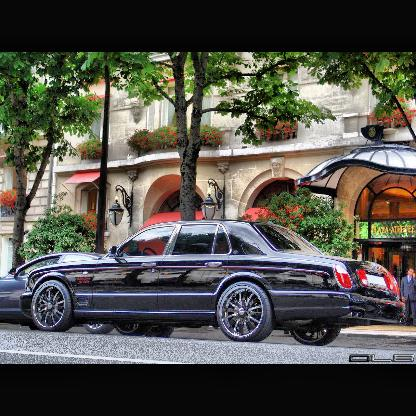Bentley Arnage Sedan 2009: (27, 221, 402, 345)
